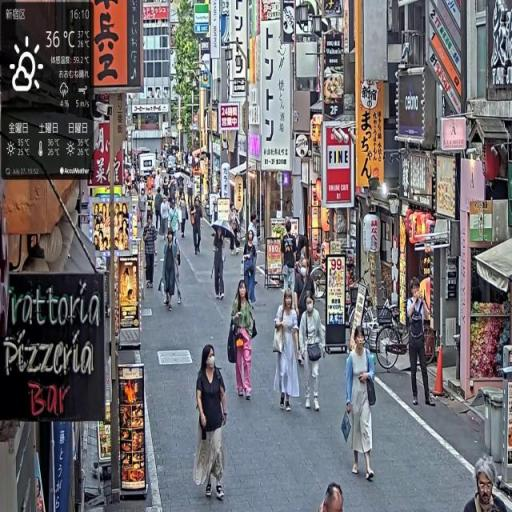person: (342, 325, 378, 482), (195, 342, 229, 503), (407, 277, 436, 412), (228, 278, 259, 403), (298, 289, 327, 416), (273, 288, 302, 413), (463, 457, 510, 512), (163, 228, 180, 315), (213, 226, 230, 303), (243, 230, 259, 311), (144, 215, 160, 291), (317, 482, 346, 512), (192, 197, 204, 257)
